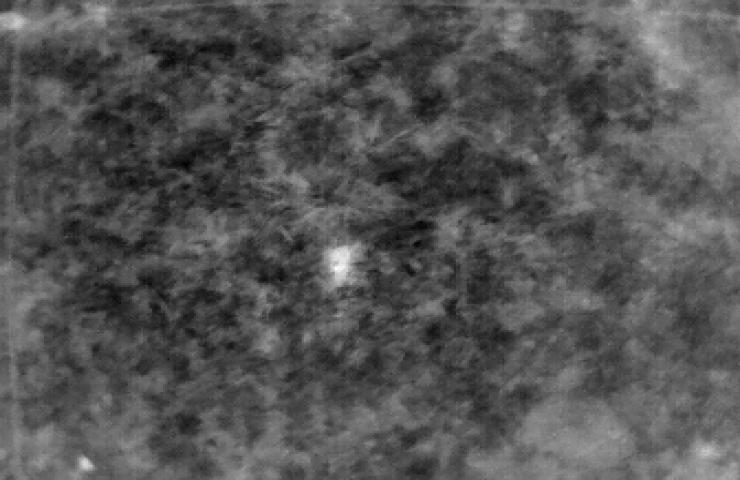landmines: (326, 244, 356, 278)
